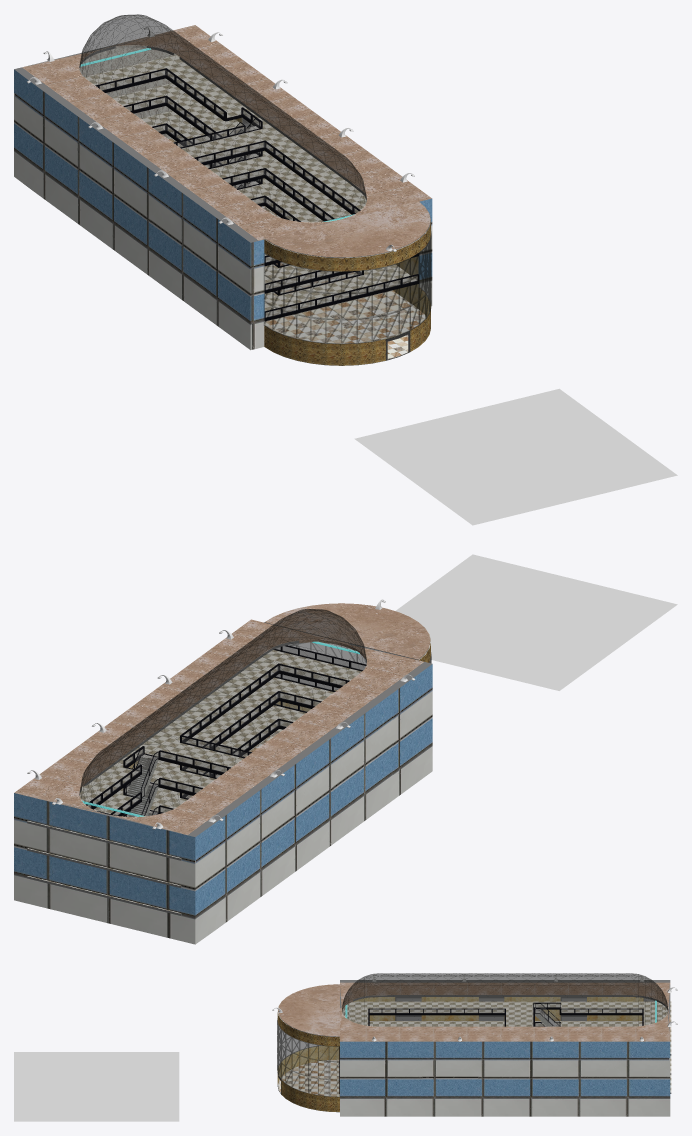
The model's file is Buliding.fbx.
The picture shows the model from 3 angles, top to bottom: view 1: azimuth 30°, elevation 25°; view 2: azimuth 150°, elevation 25°; view 3: azimuth 270°, elevation 25°; orthographic projection. The views are drawn at different scales.
Parts seen in each view (by area): view 1: Cube, Capsule, Plane_1, Front, Windos, Flor_2, Flor_1, Flor, Cover, Cover_2, Cover_3; view 2: Cube, Capsule, Plane_1, Flor_2, Front, Cover, Flor_1, Flor, Cover_2, Cover_3, Cube_2, Windos; view 3: Cube, Capsule, Plane_1, Front, Flor_2, Windos, Cover, Flor_1.
Part boxes in pixels (<box>): Cube: <box>14,25,432,350</box>; Capsule: <box>79,14,366,221</box>; Plane_1: <box>354,388,677,525</box>; Front: <box>264,201,430,365</box>; Windos: <box>264,231,431,344</box>; Flor_2: <box>84,54,366,261</box>; Flor_1: <box>112,83,351,289</box>; Flor: <box>140,111,416,316</box>; Cover: <box>95,68,360,266</box>; Cover_2: <box>123,95,418,293</box>; Cover_3: <box>152,123,418,321</box>; Cube: <box>14,619,432,944</box>; Capsule: <box>79,609,366,816</box>; Plane_1: <box>395,554,677,690</box>; Flor_2: <box>27,650,361,860</box>; Front: <box>264,603,430,733</box>; Cover: <box>86,645,366,815</box>; Flor_1: <box>27,677,334,887</box>; Flor: <box>27,705,305,915</box>; Cover_2: <box>110,674,338,816</box>; Cover_3: <box>123,701,310,816</box>; Cube_2: <box>126,748,158,797</box>; Windos: <box>289,642,431,663</box>; Cube: <box>340,980,670,1116</box>; Capsule: <box>342,973,668,1026</box>; Plane_1: <box>14,1052,179,1121</box>; Front: <box>277,984,339,1112</box>; Flor_2: <box>342,1001,671,1055</box>; Windos: <box>277,1019,339,1097</box>; Cover: <box>339,1002,643,1055</box>; Flor_1: <box>369,1021,671,1074</box>.
Size of the model in its own units: 400 by 294 by 1607.
9 materials, 5 textured.
